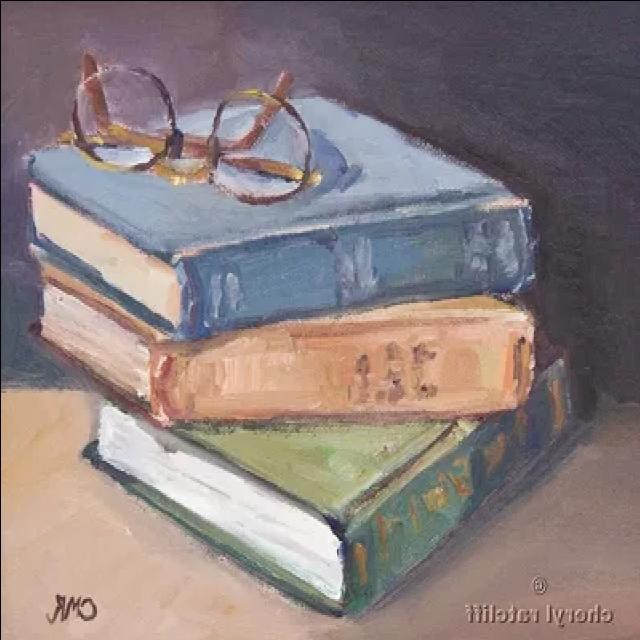book: (13, 84, 540, 328)
